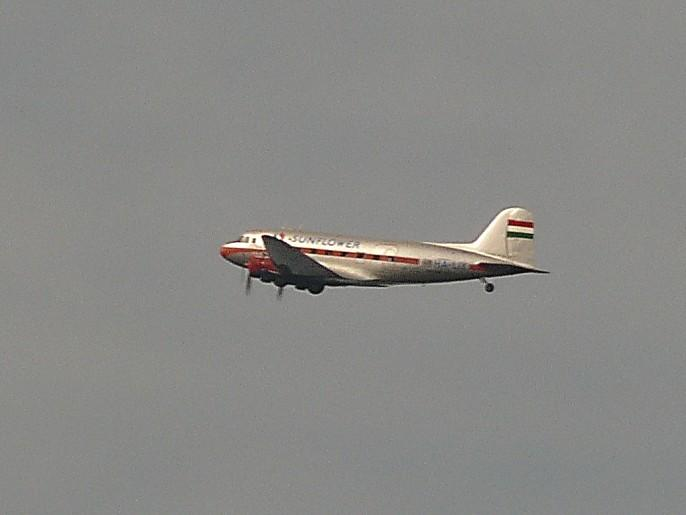plane: (219, 206, 551, 298)
